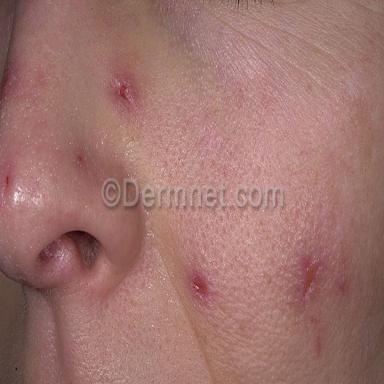acne: (300, 255, 324, 305), (112, 79, 136, 110), (191, 271, 208, 300), (5, 172, 12, 190), (77, 153, 84, 168)
